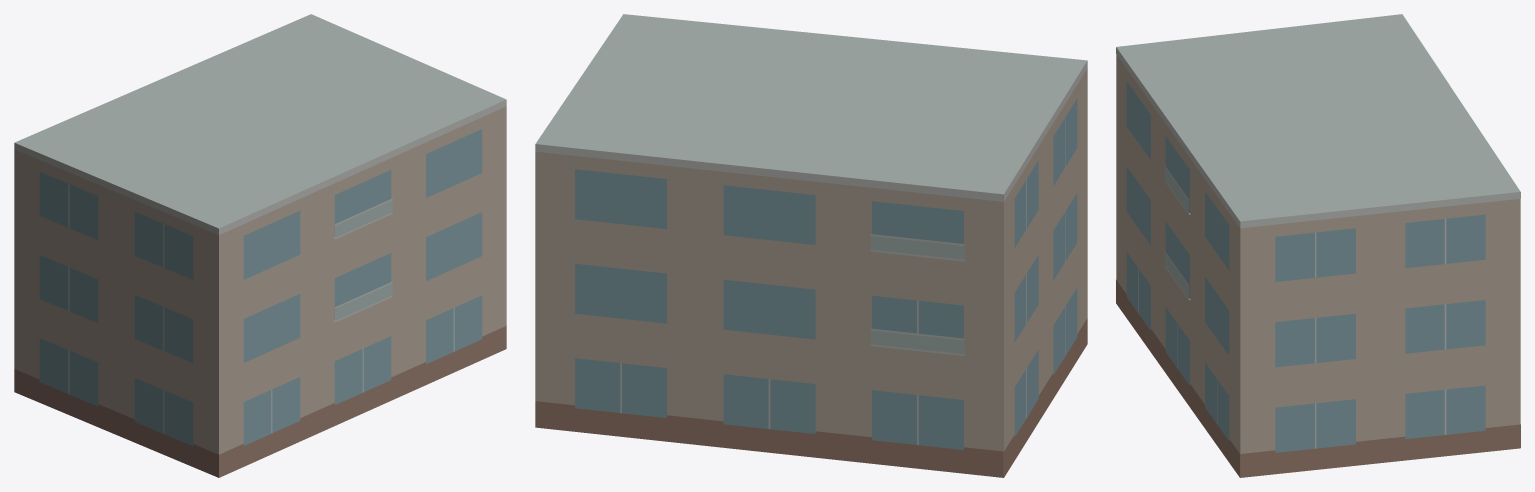
Rendered from survey-upis-32612985.glb.
The picture shows the model from 3 angles, left to right: view 1: azimuth 30°, elevation 25°; view 2: azimuth 150°, elevation 25°; view 3: azimuth 270°, elevation 25°; orthographic projection. The views are drawn at different scales.
Visible parts, largest first — view 1: survey-upis-32612985.tmp; view 2: survey-upis-32612985.tmp; view 3: survey-upis-32612985.tmp.
Boxes of the visible parts, bbox=[...] form: survey-upis-32612985.tmp: bbox=[14, 14, 506, 477]; survey-upis-32612985.tmp: bbox=[535, 14, 1087, 477]; survey-upis-32612985.tmp: bbox=[1116, 14, 1520, 477].
Size of the model in its own units: 15.89 by 9.15 by 13.1.
